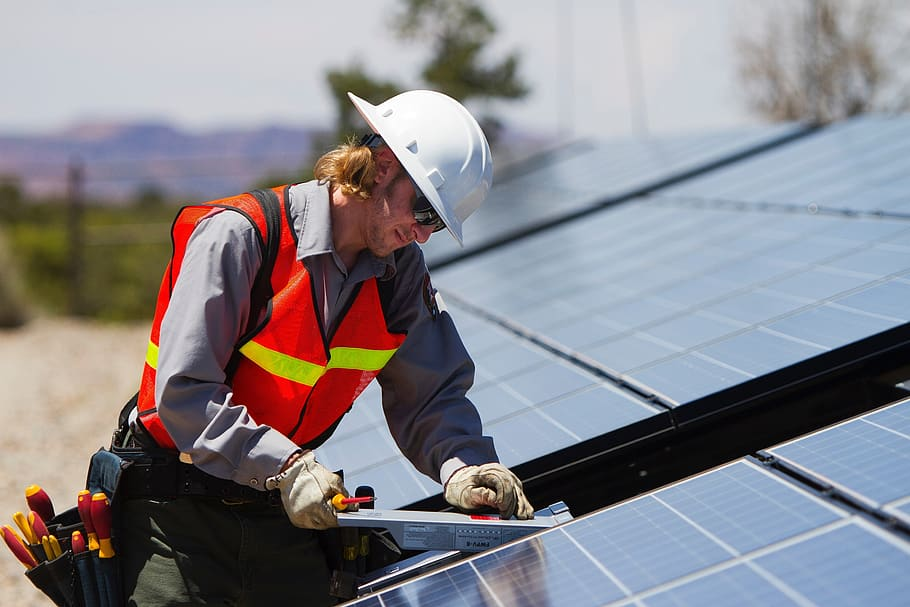Hard Hat: (324, 88, 492, 250)
Person: (97, 89, 537, 604)
Vest: (139, 136, 448, 476)
